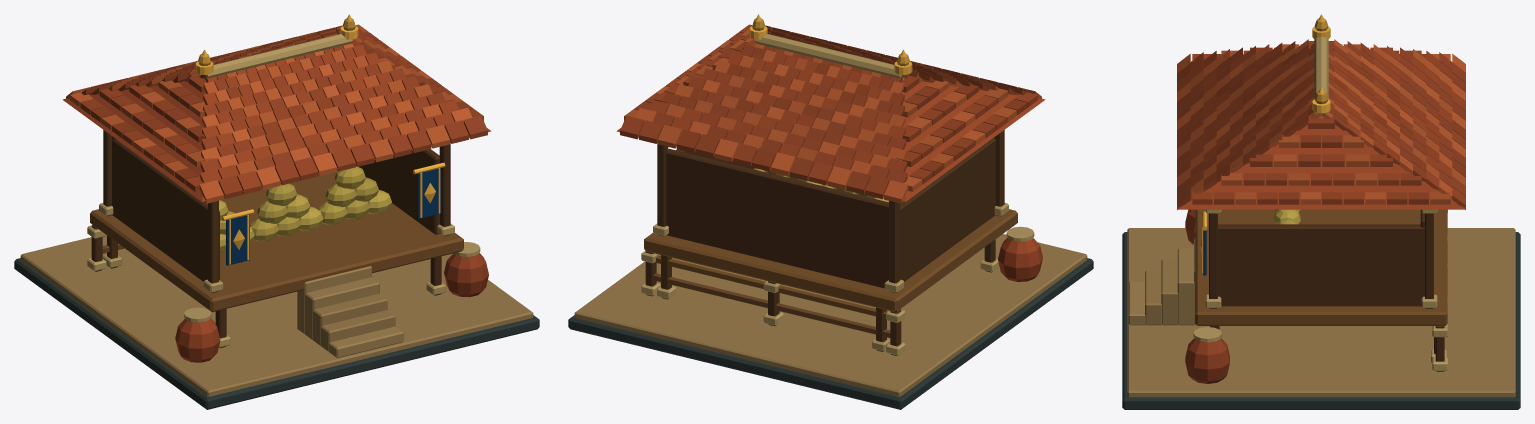
The model's file is granary.glb.
3 views of the same model, side by side, from view 1: azimuth 30°, elevation 25°; view 2: azimuth 150°, elevation 25°; view 3: azimuth 270°, elevation 25° (orthographic). The views are drawn at different scales.
Visible parts, largest first — view 1: granary_structure, granary_brass; view 2: granary_structure; view 3: granary_structure, granary_brass.
Boxes of the visible parts, box(x1,y1,x2,y2) form: granary_structure: box(14, 18, 539, 409); granary_brass: box(195, 14, 445, 264); granary_structure: box(568, 18, 1093, 409); granary_structure: box(1122, 18, 1520, 409); granary_brass: box(1200, 14, 1330, 273).
Size of the model in its own units: 5.6 by 4.29 by 5.6.
